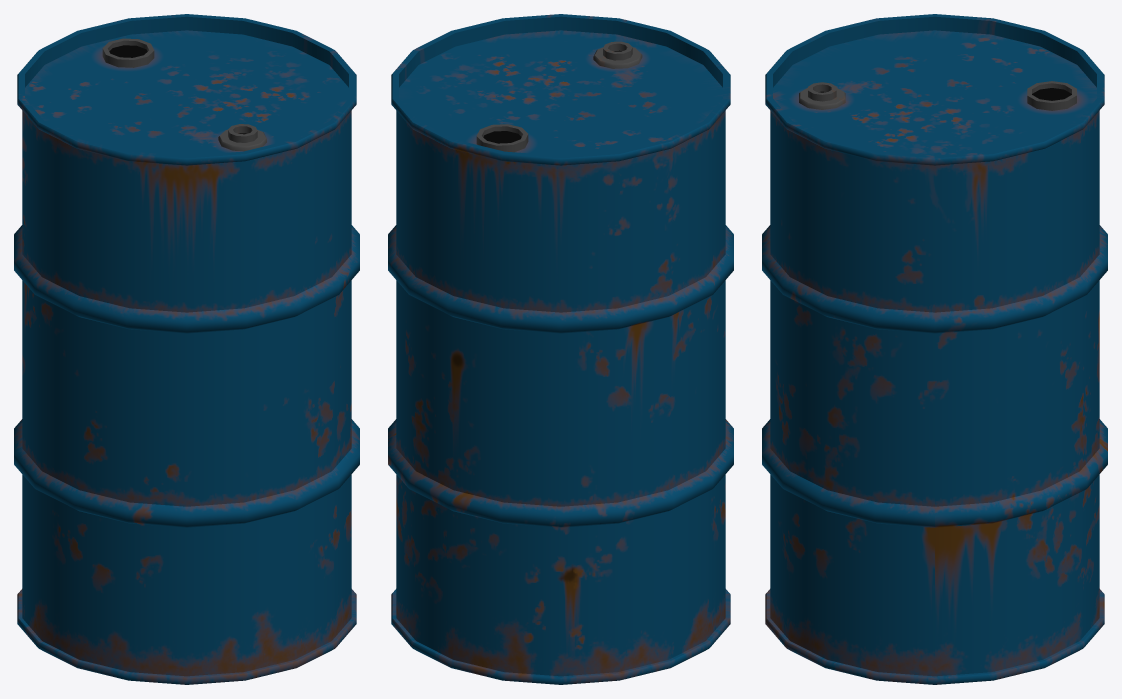
The model's file is Oil drum 2,2.fbx.
The picture shows the model from 3 angles, left to right: view 1: azimuth 30°, elevation 25°; view 2: azimuth 150°, elevation 25°; view 3: azimuth 270°, elevation 25°; orthographic projection.
Parts seen in each view (by area): view 1: Oil_Drum_002_LOD0; view 2: Oil_Drum_002_LOD0; view 3: Oil_Drum_002_LOD0.
Boxes of the visible parts, box(x1,y1,x2,y2) form: Oil_Drum_002_LOD0: box(14, 14, 359, 684); Oil_Drum_002_LOD0: box(388, 14, 733, 684); Oil_Drum_002_LOD0: box(762, 14, 1107, 684).
Size of what is drawn, in the model's own units: 51.64 by 85.43 by 50.85.
